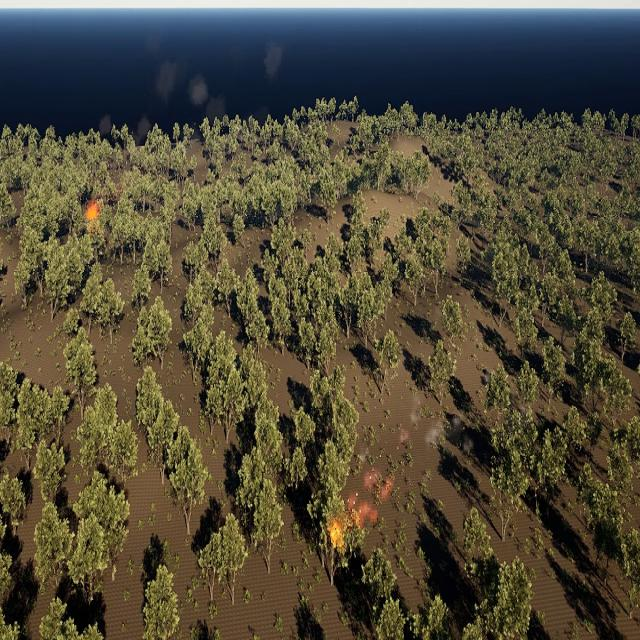fire: (331, 523, 344, 546), (88, 204, 100, 222), (383, 480, 392, 499)
smoke: (150, 52, 229, 117), (401, 389, 474, 454), (345, 466, 389, 526), (264, 39, 286, 83), (130, 116, 152, 144), (99, 114, 112, 140)
